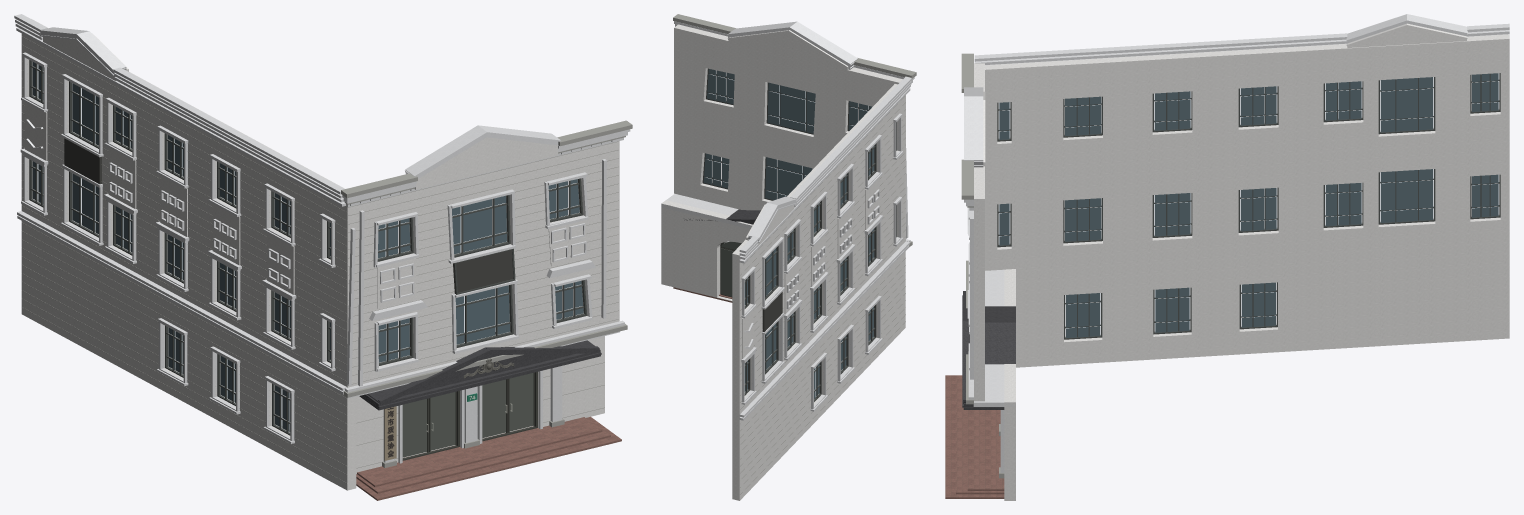
The model's file is lod-source.glb.
3 views of the same model, side by side, from view 1: azimuth 30°, elevation 25°; view 2: azimuth 150°, elevation 25°; view 3: azimuth 270°, elevation 25° (orthographic). The views are drawn at different scales.
Parts seen in each view (by area): view 1: 泰安路74号上海市质量协会临街面; view 2: 泰安路74号上海市质量协会临街面; view 3: 泰安路74号上海市质量协会临街面.
Boxes of the visible parts, bbox=[...] form: 泰安路74号上海市质量协会临街面: bbox=[14, 14, 632, 500]; 泰安路74号上海市质量协会临街面: bbox=[661, 14, 916, 500]; 泰安路74号上海市质量协会临街面: bbox=[945, 14, 1509, 500].
Bounding box in the file's own units: 15.31 × 13.93 × 20.96.
16 materials, 4 textured.
